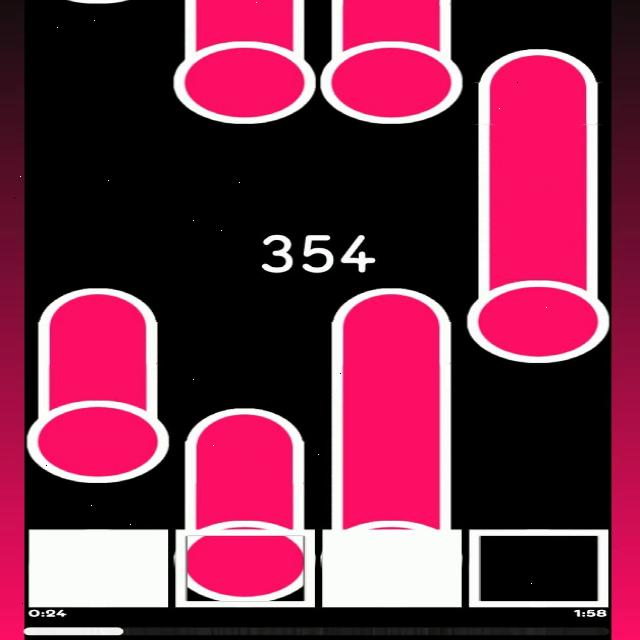end_hold: (330, 278, 450, 332), (184, 399, 308, 447), (38, 278, 156, 328), (477, 38, 597, 87)
start_hold: (172, 22, 317, 126), (324, 22, 464, 124), (26, 385, 169, 483), (469, 261, 607, 362), (188, 500, 301, 600)
